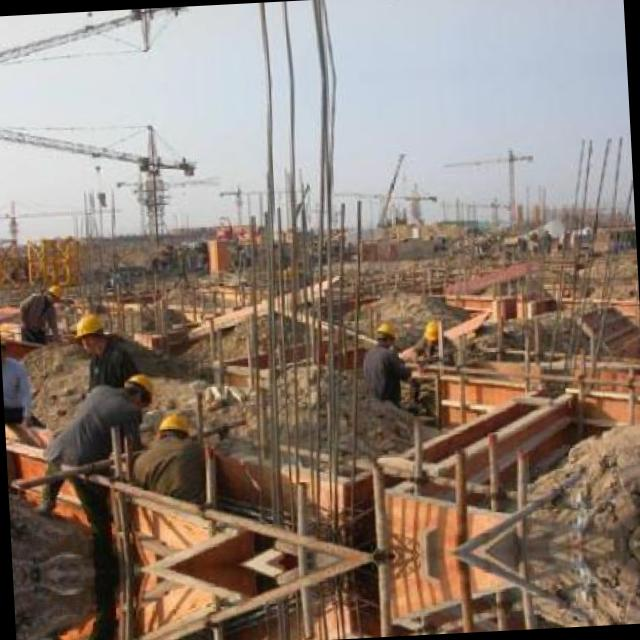helmet: (71, 308, 115, 356), (114, 368, 162, 411), (151, 409, 195, 453), (369, 315, 398, 349), (419, 314, 446, 344), (44, 281, 67, 307)
